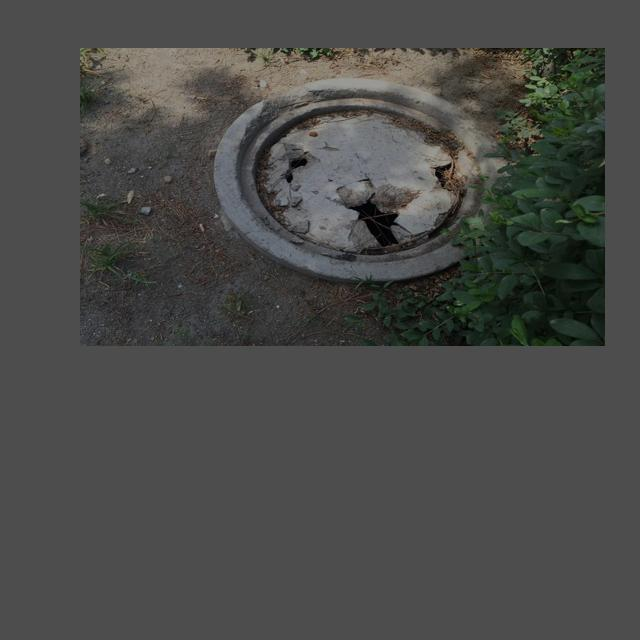broke: (205, 77, 527, 283)
